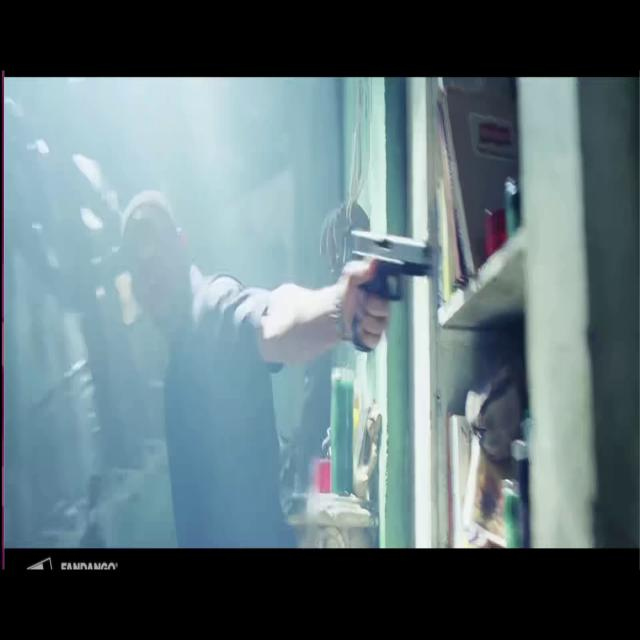weapons: (331, 198, 441, 364)
